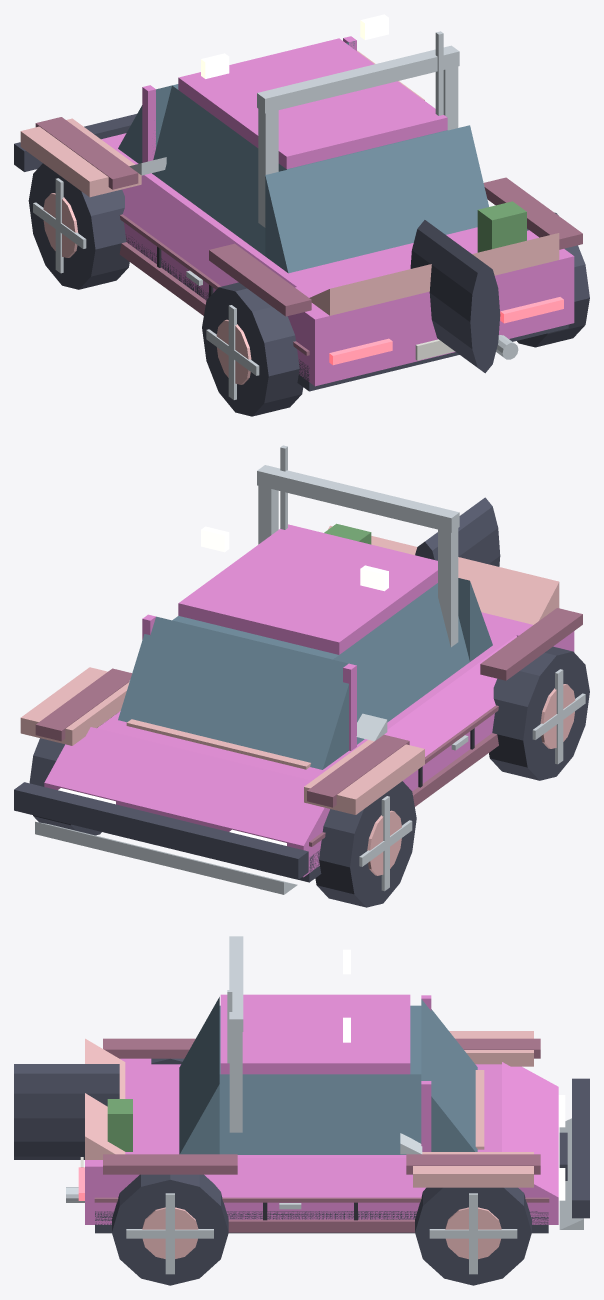
File: mudskipper.glb
3 views of the same model, one above another, from view 1: azimuth 30°, elevation 25°; view 2: azimuth 150°, elevation 25°; view 3: azimuth 270°, elevation 25° (orthographic). The views are drawn at different scales.
Parts seen in each view (by area): view 1: RearWindow.162, Roof.262, CabinSideL.059, Tail.062, SpareTyre.019, Wheel_RL.222, Wheel_FL.222, Body.262, ShoulderL.059, Ducktail.046, RollBar.055, BodyUpper.059 (+26 smaller); view 2: Windshield.162, Roof.262, Nose.059, CabinSideL.059, BashBar.055, Wheel_RL.222, Wheel_FL.222, Ducktail.046, ShoulderL.059, RollBar.055, BodyUpper.059, Bumper.258 (+26 smaller); view 3: CabinSideR.059, Roof.262, SpareTyre.019, Wheel_RR.222, ShoulderR.059, Wheel_FR.222, Windshield.162, Nose.059, RearWindow.162, BodyUpper.059, Body.262, Tail.062 (+24 smaller).
Boxes of the visible parts, x1=… form: RearWindow.162: x1=265, y1=125, x2=488, y2=273; Roof.262: x1=178, y1=38, x2=447, y2=168; CabinSideL.059: x1=152, y1=85, x2=286, y2=255; Tail.062: x1=287, y1=230, x2=574, y2=354; SpareTyre.019: x1=410, y1=220, x2=500, y2=373; Wheel_RL.222: x1=202, y1=282, x2=303, y2=416; Wheel_FL.222: x1=28, y1=163, x2=129, y2=289; Body.262: x1=124, y1=222, x2=574, y2=386; ShoulderL.059: x1=122, y1=175, x2=296, y2=287; Ducktail.046: x1=309, y1=233, x2=559, y2=315; RollBar.055: x1=257, y1=45, x2=459, y2=113; BodyUpper.059: x1=101, y1=133, x2=477, y2=286; Windshield.162: x1=118, y1=616, x2=348, y2=769; Roof.262: x1=178, y1=524, x2=437, y2=654; Nose.059: x1=44, y1=727, x2=329, y2=845; CabinSideL.059: x1=333, y1=583, x2=469, y2=744; BashBar.055: x1=14, y1=782, x2=308, y2=879; Wheel_RL.222: x1=489, y1=646, x2=589, y2=780; Wheel_FL.222: x1=315, y1=781, x2=416, y2=907; Ducktail.046: x1=328, y1=525, x2=559, y2=624; ShoulderL.059: x1=384, y1=635, x2=516, y2=756; RollBar.055: x1=257, y1=465, x2=459, y2=532; BodyUpper.059: x1=97, y1=628, x2=515, y2=780; Bumper.258: x1=35, y1=821, x2=297, y2=894; CabinSideR.059: x1=219, y1=1074, x2=421, y2=1154; Roof.262: x1=220, y1=994, x2=410, y2=1074; SpareTyre.019: x1=14, y1=1064, x2=119, y2=1159; Wheel_RR.222: x1=112, y1=1174, x2=228, y2=1285; ShoulderR.059: x1=204, y1=1158, x2=425, y2=1197; Wheel_FR.222: x1=415, y1=1187, x2=531, y2=1285; Windshield.162: x1=421, y1=999, x2=477, y2=1151; Nose.059: x1=502, y1=1062, x2=558, y2=1197; RearWindow.162: x1=179, y1=997, x2=219, y2=1154; BodyUpper.059: x1=151, y1=1064, x2=501, y2=1157; Body.262: x1=85, y1=1197, x2=558, y2=1224; Tail.062: x1=85, y1=1058, x2=151, y2=1197.
Bounding box in the file's own units: 3.36 × 2.84 × 5.71.
